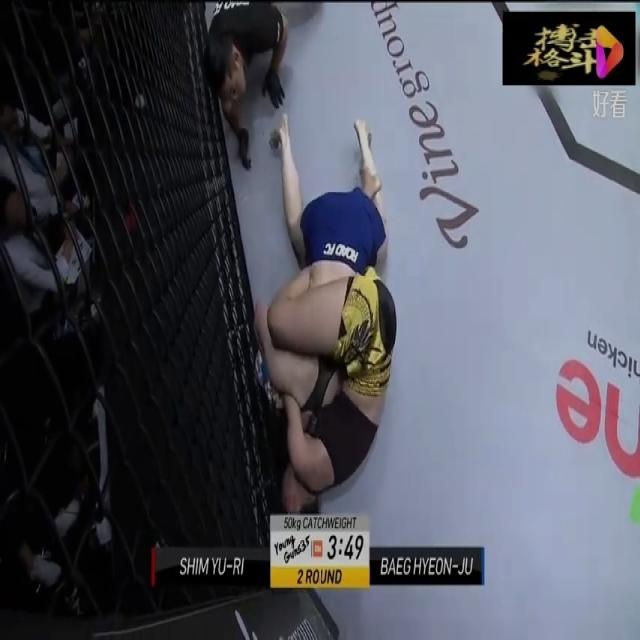fight: (228, 110, 428, 520)
